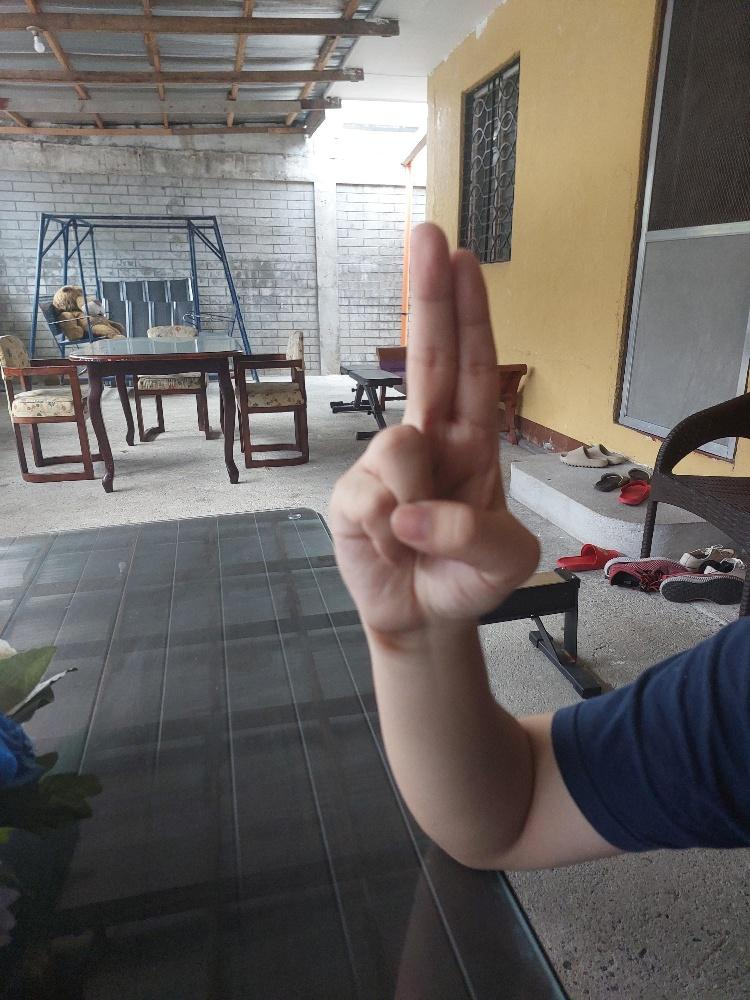u: (324, 214, 545, 642)
